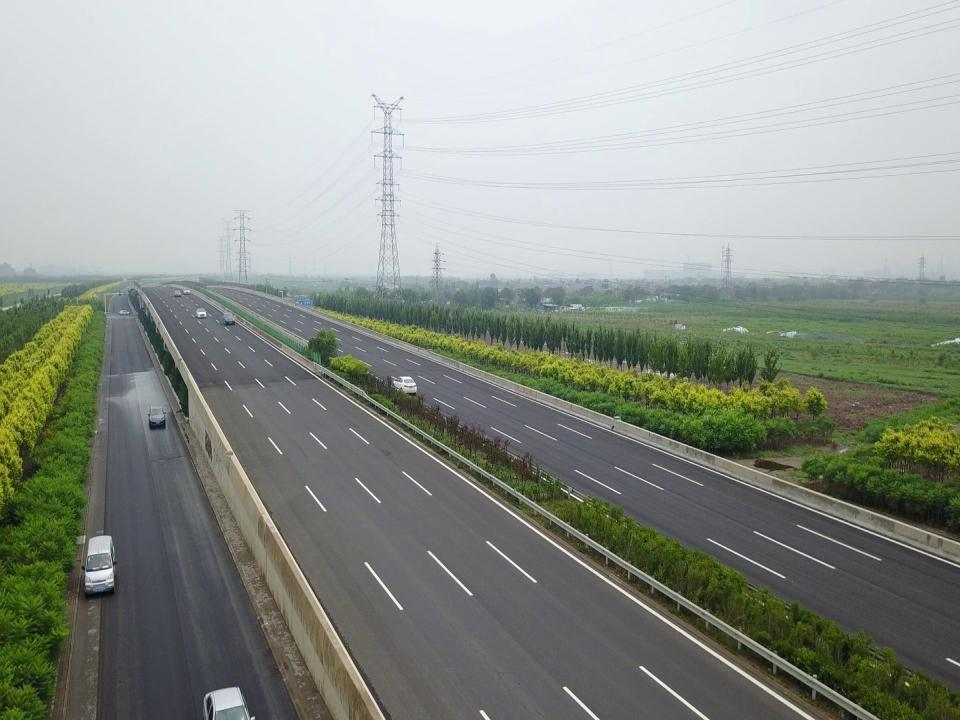car: (189, 684, 260, 720), (83, 532, 119, 600), (388, 374, 419, 395), (147, 404, 167, 429), (221, 311, 237, 327), (195, 308, 207, 320), (118, 308, 131, 316), (173, 289, 181, 298), (183, 287, 191, 295)
